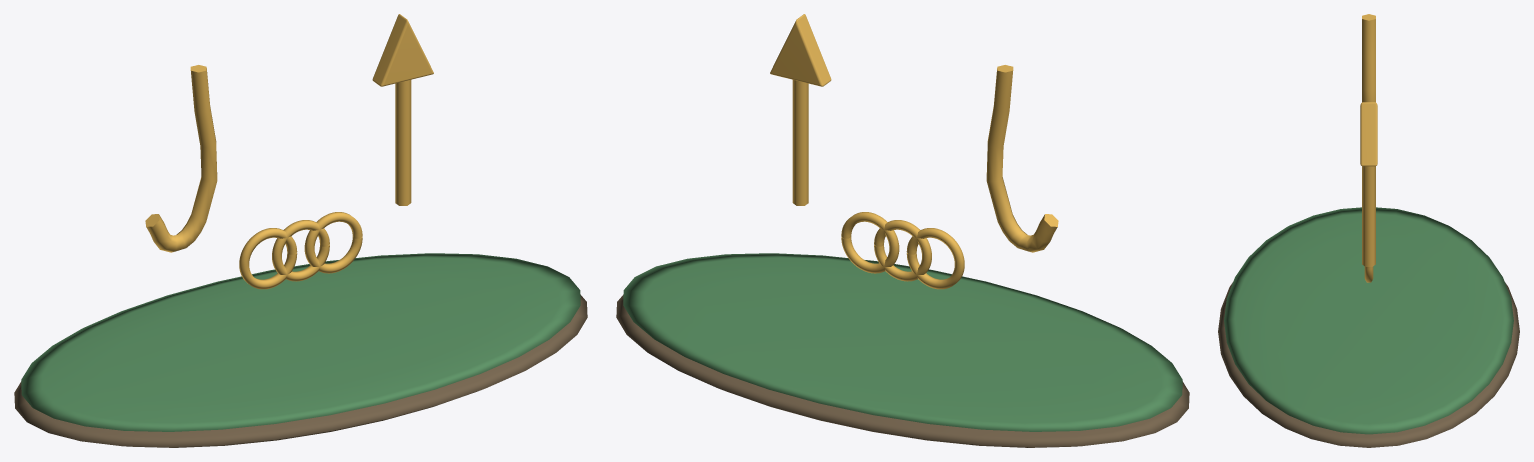
File: complete-second-pulling-rise-cause.glb
3 views of the same model, side by side, from view 1: azimuth 30°, elevation 25°; view 2: azimuth 150°, elevation 25°; view 3: azimuth 270°, elevation 25° (orthographic). The views are drawn at different scales.
Visible parts, largest first — view 1: complete-second-pulling-rise-cause_surface_01, complete-second-pulling-rise-cause_surface_02, complete-second-pulling-rise-cause_surface_00; view 2: complete-second-pulling-rise-cause_surface_01, complete-second-pulling-rise-cause_surface_02, complete-second-pulling-rise-cause_surface_00; view 3: complete-second-pulling-rise-cause_surface_01, complete-second-pulling-rise-cause_surface_00, complete-second-pulling-rise-cause_surface_02.
Part boxes in pixels (x1,y1,x2,y2): complete-second-pulling-rise-cause_surface_01: (21, 253, 580, 431); complete-second-pulling-rise-cause_surface_02: (145, 14, 433, 289); complete-second-pulling-rise-cause_surface_00: (14, 294, 587, 447); complete-second-pulling-rise-cause_surface_01: (623, 253, 1182, 431); complete-second-pulling-rise-cause_surface_02: (770, 14, 1058, 289); complete-second-pulling-rise-cause_surface_00: (616, 294, 1189, 447); complete-second-pulling-rise-cause_surface_01: (1224, 207, 1513, 434); complete-second-pulling-rise-cause_surface_00: (1218, 282, 1519, 447); complete-second-pulling-rise-cause_surface_02: (1360, 14, 1377, 282).
Size of the model in its own units: 4.56 by 2.62 by 2.5.
